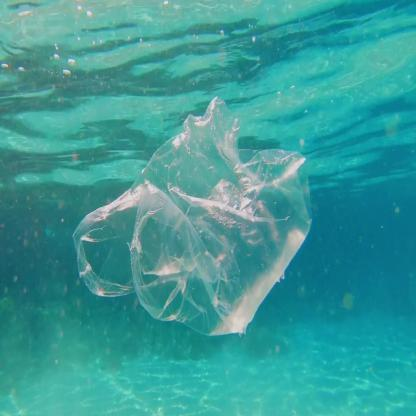Rác: (46, 74, 326, 349)
